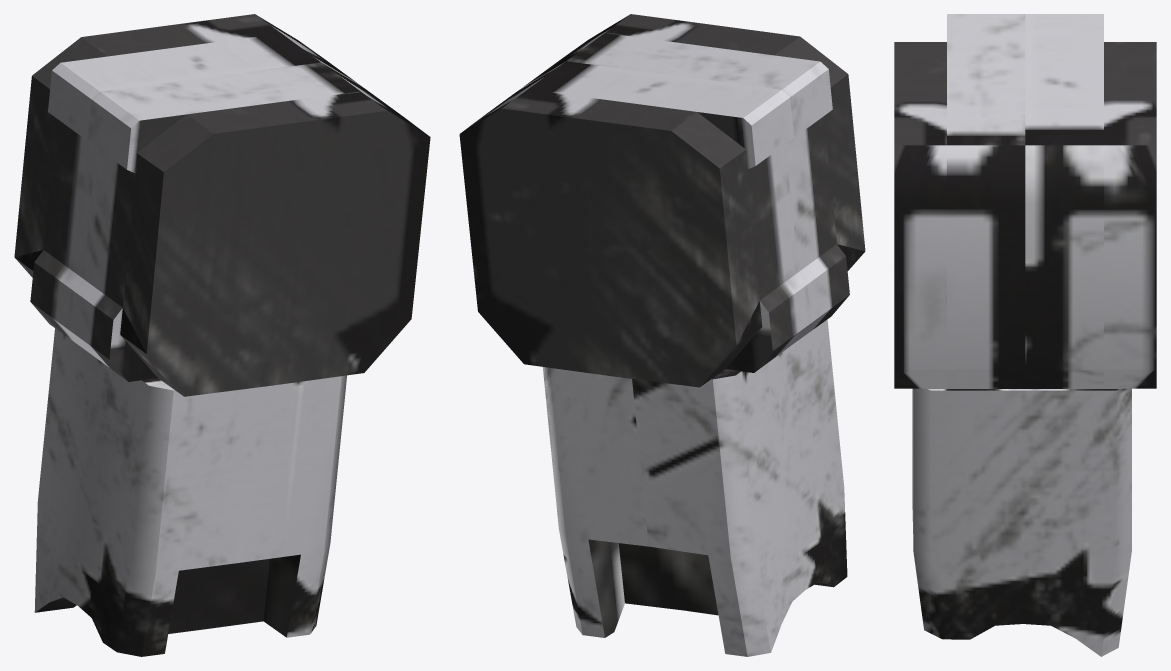
Rendered from arm1.obj.
3 renders of one model, left to right at view 1: azimuth 30°, elevation 25°; view 2: azimuth 150°, elevation 25°; view 3: azimuth 270°, elevation 25°, orthographic. The views are drawn at different scales.
Visible parts, largest first — view 1: group1 polySurface666 polySurface672, polySurface687 group1 polySurface666; view 2: group1 polySurface666 polySurface672, polySurface687 group1 polySurface666; view 3: group1 polySurface666 polySurface672, polySurface687 group1 polySurface666.
Boxes of the visible parts, <box> form: group1 polySurface666 polySurface672: <box>14,14,430,396</box>; polySurface687 group1 polySurface666: <box>34,328,346,656</box>; group1 polySurface666 polySurface672: <box>459,14,865,387</box>; polySurface687 group1 polySurface666: <box>542,319,847,656</box>; group1 polySurface666 polySurface672: <box>894,14,1156,388</box>; polySurface687 group1 polySurface666: <box>912,388,1131,656</box>.
Bounding box in the file's own units: 2.19 × 4.01 × 1.7.
Materials: 1 (1 with a texture image).
